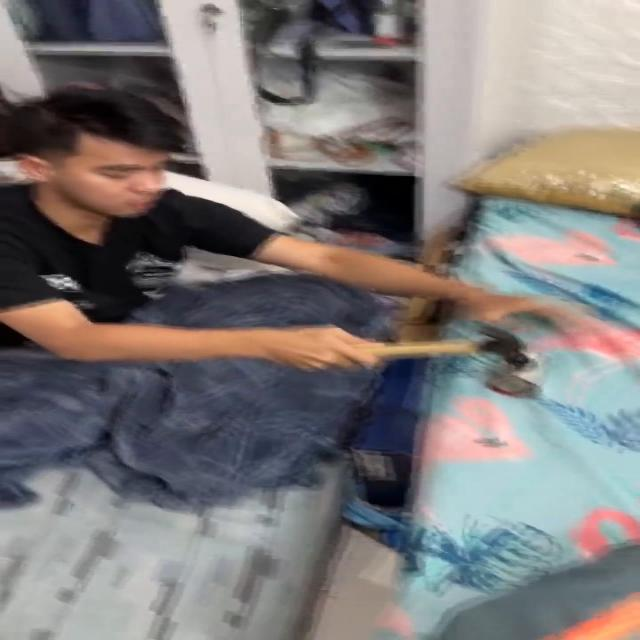hammer: (347, 321, 535, 373)
